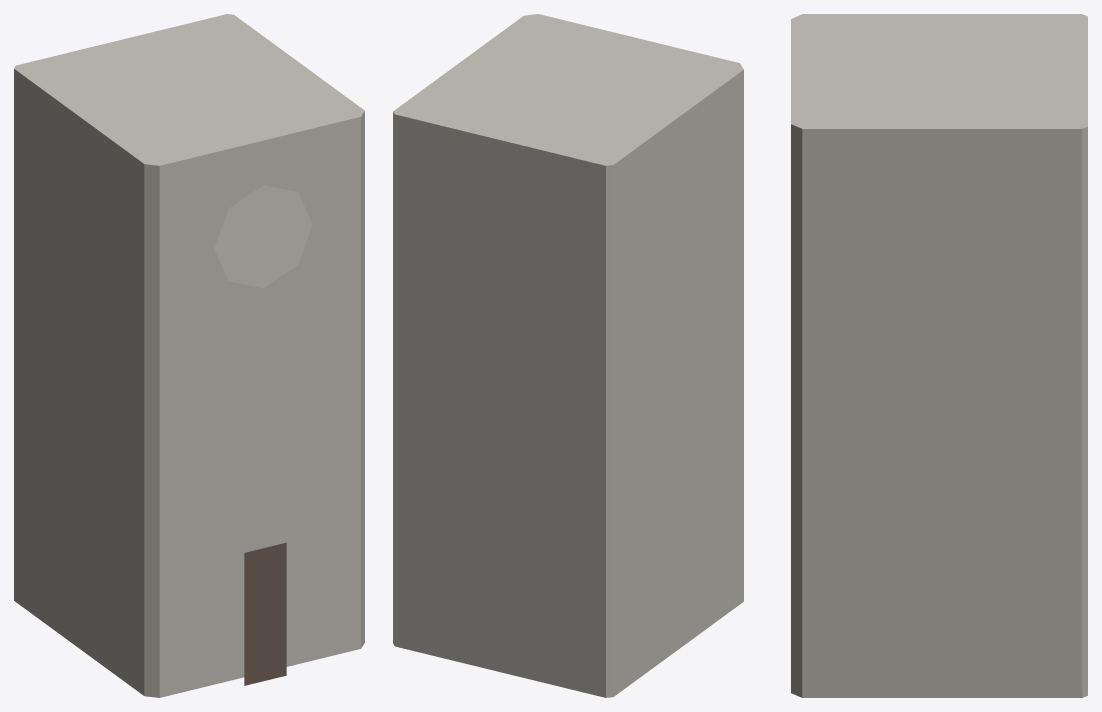
File: loin-etape-1.glb
The picture shows the model from 3 angles, left to right: view 1: azimuth 30°, elevation 25°; view 2: azimuth 150°, elevation 25°; view 3: azimuth 270°, elevation 25°; orthographic projection. The views are drawn at different scales.
Parts seen in each view (by area): view 1: loin; view 2: loin; view 3: loin.
Boxes of the visible parts, box(x1,y1,x2,y2) form: loin: box(14, 14, 364, 697); loin: box(393, 14, 743, 697); loin: box(791, 14, 1087, 697).
Size of the model in its own units: 0.3146 by 0.7263 by 0.3652.
